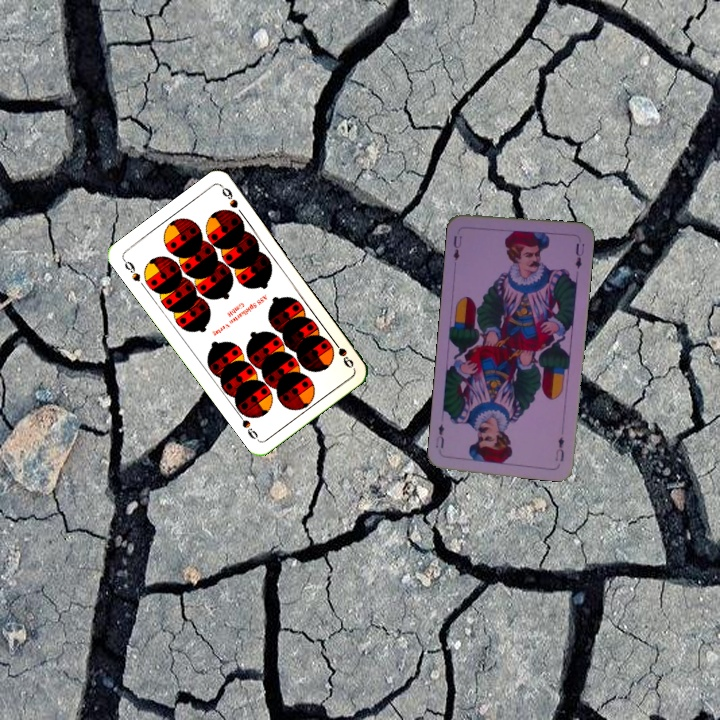EU: (551, 432, 567, 464), (449, 231, 464, 263)
S9: (328, 335, 356, 371), (119, 255, 143, 284)
